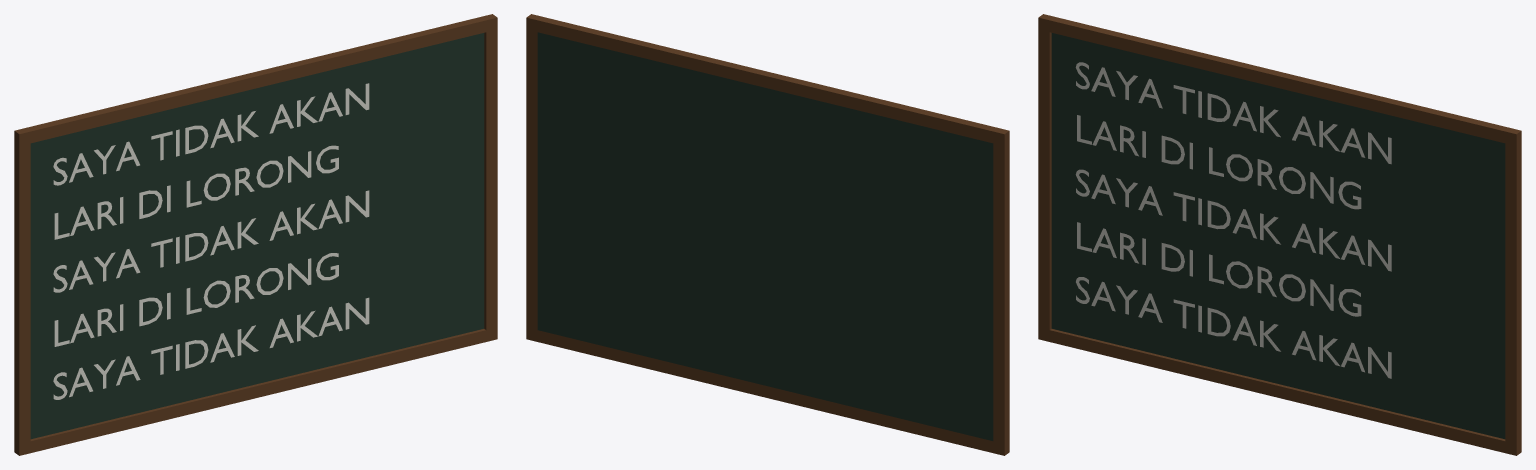
Rendered from lines_board.glb.
3 views of the same model, side by side, from view 1: azimuth 30°, elevation 25°; view 2: azimuth 150°, elevation 25°; view 3: azimuth 330°, elevation 25° (orthographic).
Visible parts, largest first — view 1: LinesBoard; view 2: LinesBoard; view 3: LinesBoard.
Boxes of the visible parts, left/top/right/bottom form: LinesBoard: left=14, top=14, right=497, bottom=455; LinesBoard: left=526, top=14, right=1009, bottom=455; LinesBoard: left=1038, top=14, right=1521, bottom=455.
Size of the model in its own units: 1.68 by 1.08 by 0.03.
